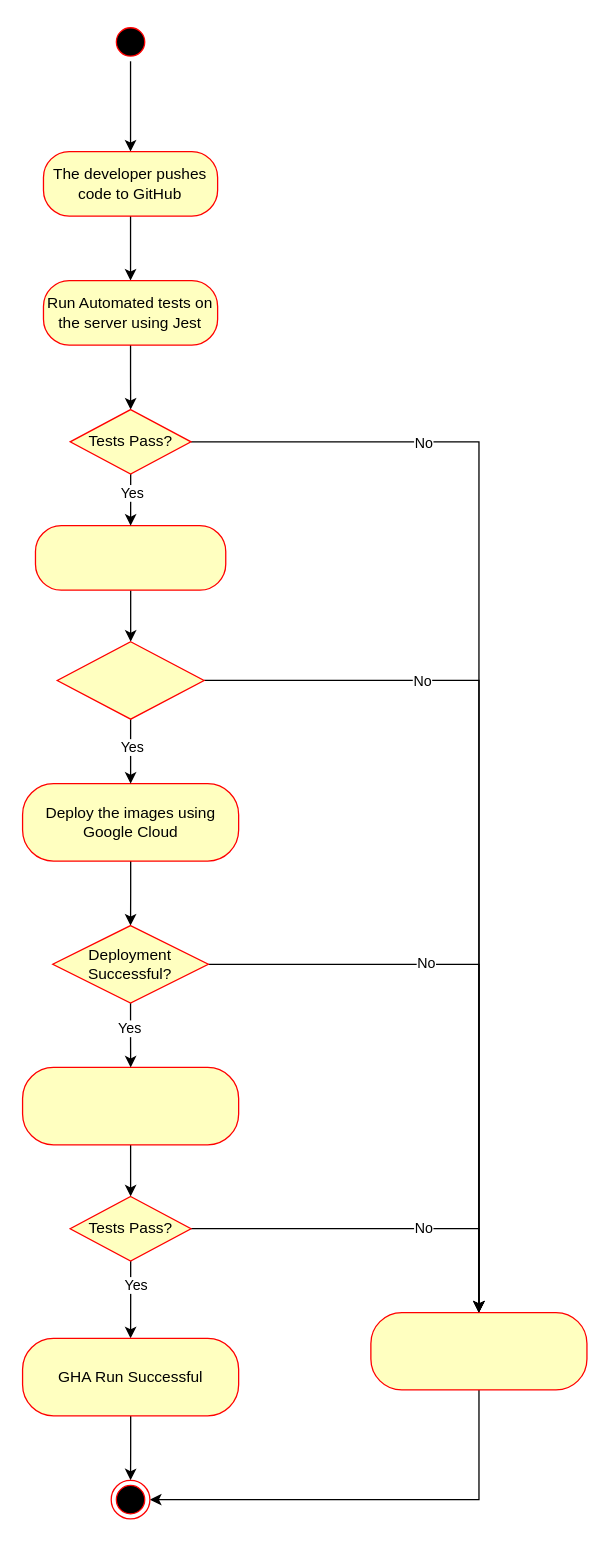
Some shapes in this 610 by 1542 pixel diagram are drawn without their labels. Each missing label, with the centre of its shape:
Build Client and Server Image using GHA: the point at 130,557
Builds are successful?: the point at 130,679
GHA Run Fails: the point at 478,1350
Run Automated API Testing using Newman: the point at 130,1105
